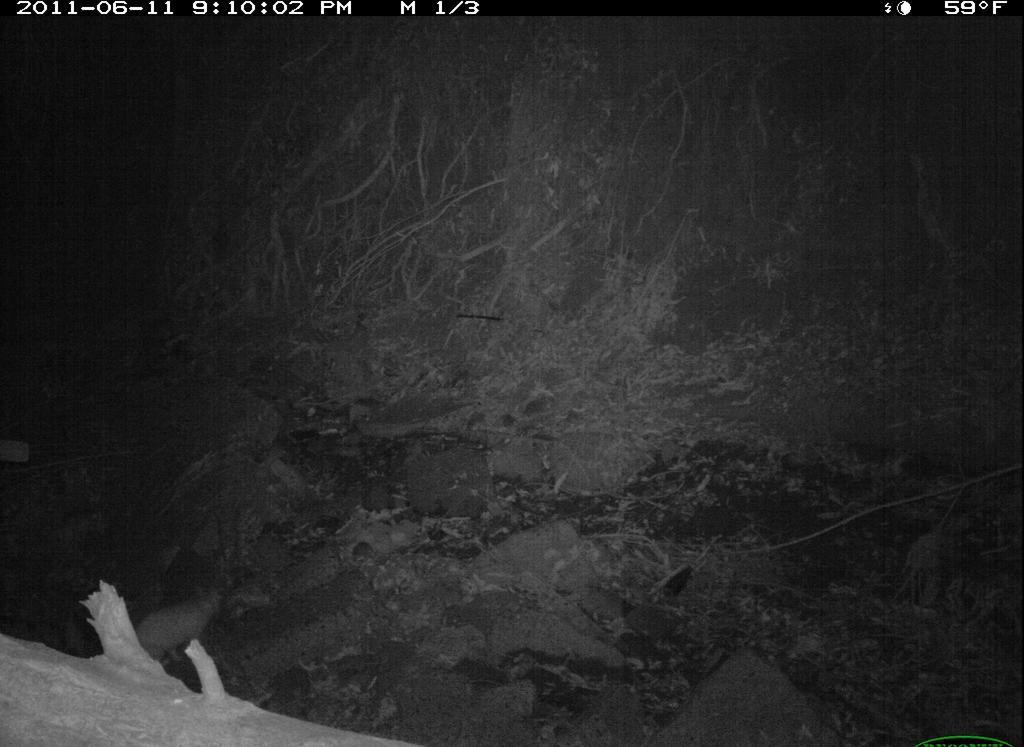cat: (134, 588, 228, 667)
